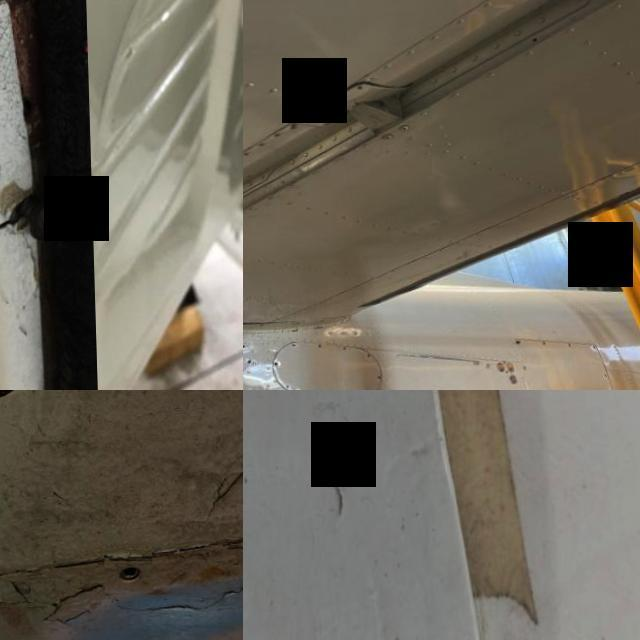Crack: (0, 0, 95, 390), (308, 404, 374, 540)
Missing_Fastener: (102, 548, 151, 598), (364, 358, 370, 361), (289, 347, 294, 350), (244, 363, 248, 366)
